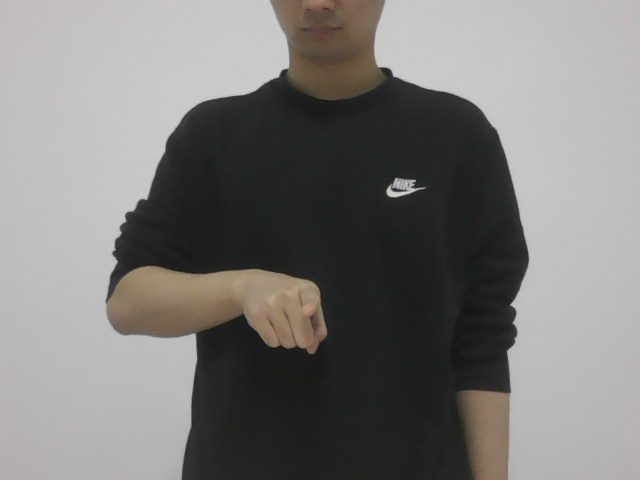you/your/this: (219, 266, 342, 355)
